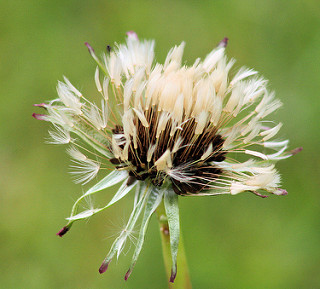dandelion: (34, 21, 306, 272)
